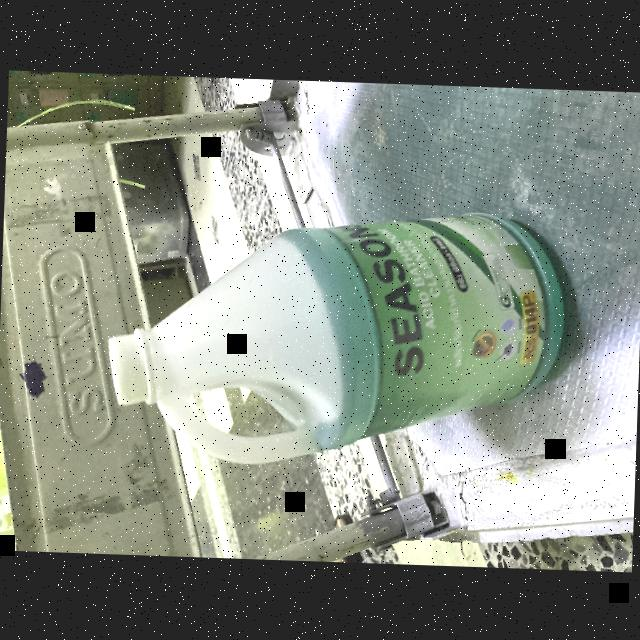chemical_plastic_gallon: (100, 193, 574, 476)
